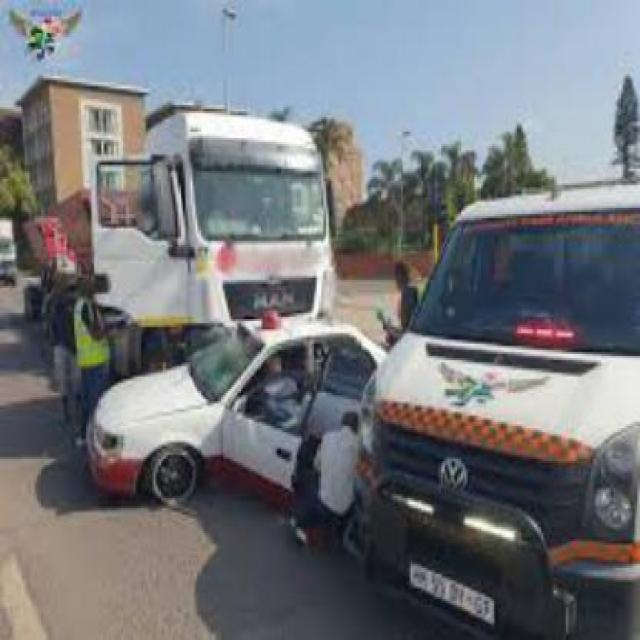accident: (81, 103, 363, 523)
